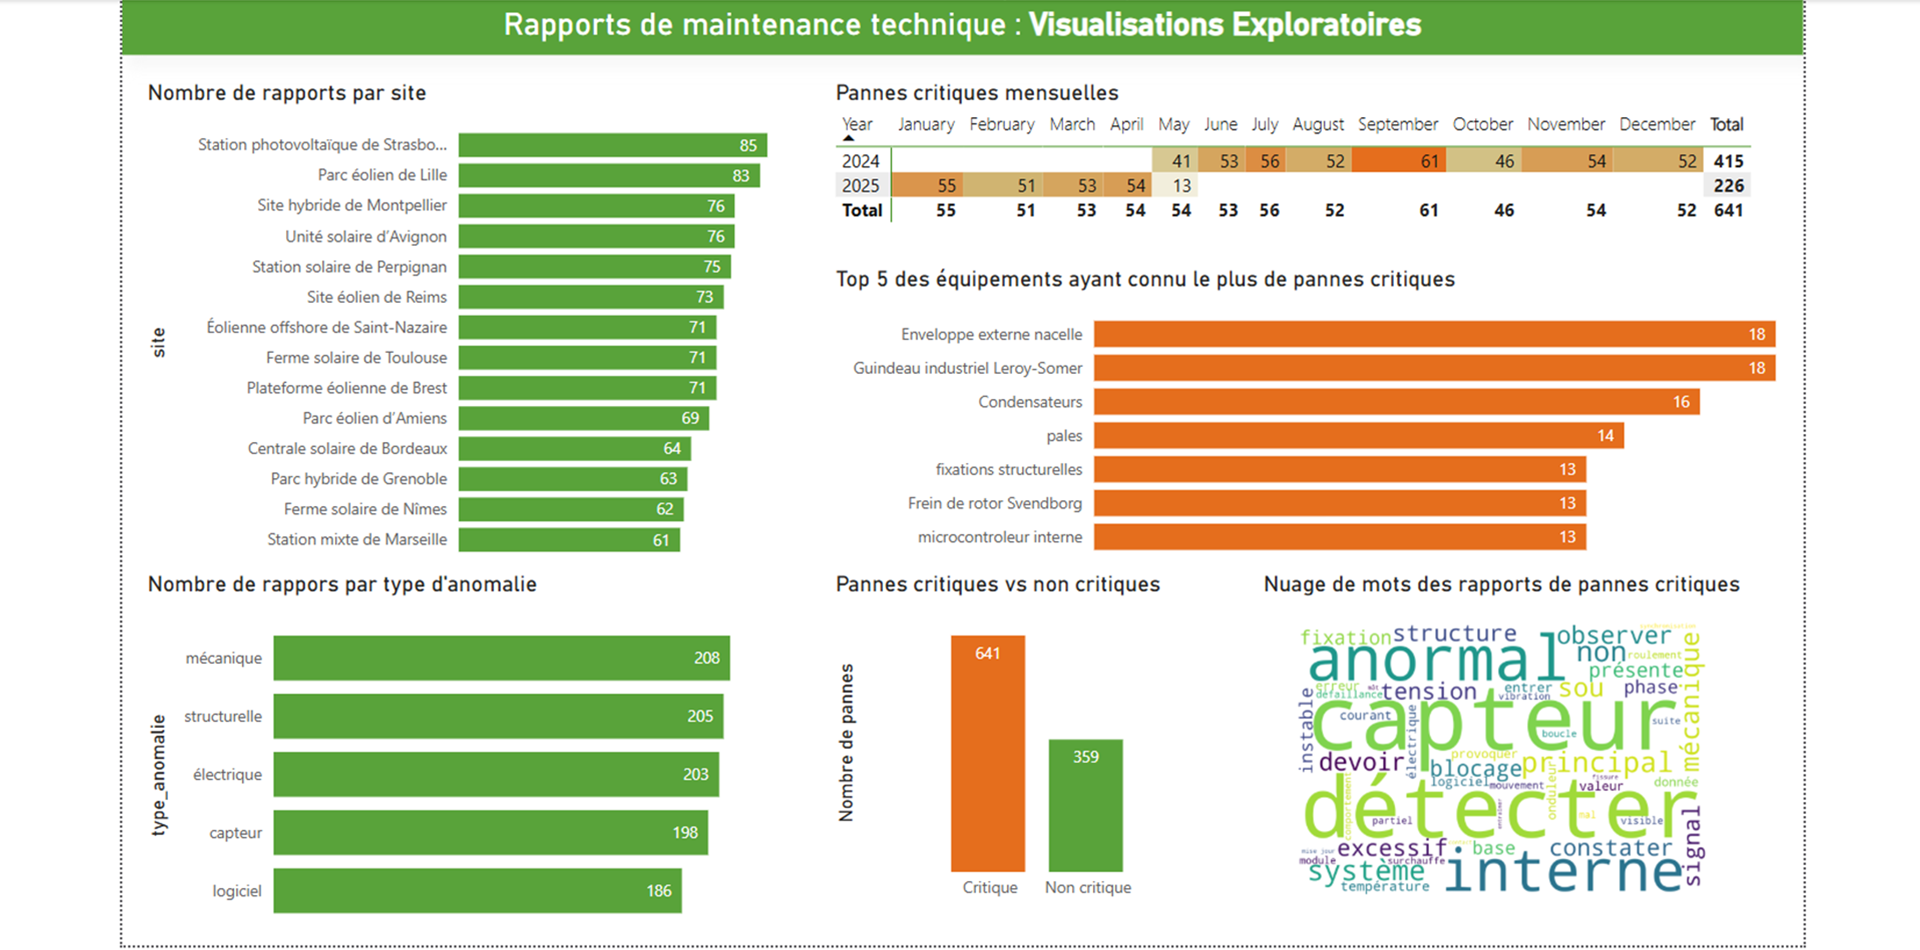

What the dashboard file says about the page in this screenshot:
{"tool":"powerbi","page":{"name":"Visualisations exploratoires","canvas":[1280,720],"ordinal":0},"visuals":[{"type":"pythonVisual","title":"Nuage de mots des rapports de pannes critiques","fields":{"Values":["powerbi_dataset_predictions.rapport_clean","powerbi_dataset_predictions.panne_critique"]},"box":[837.3,434.5,427.3,273.6],"z":0},{"type":"columnChart","title":"Pannes critiques vs non critiques","fields":{"Category":["powerbi_dataset_predictions.panne_critique_label"],"Y":["CountNonNull(powerbi_dataset_predictions.panne_critique_label)"]},"box":[538.2,434.5,299.1,272.7],"z":1000},{"type":"barChart","title":"Top 5 des équipements ayant connu le plus de pannes critiques","fields":{"Y":["CountNonNull(powerbi_dataset_predictions.equipement)"],"Category":["powerbi_dataset_predictions.equipement"]},"box":[538.2,201.8,726.4,232.7],"z":2000},{"type":"barChart","title":"Nombre de rapports par site","fields":{"Category":["powerbi_dataset_predictions.site"],"Y":["CountNonNull(powerbi_dataset_predictions.rapport)"]},"box":[14.5,60,523.6,374.5],"z":3000},{"type":"barChart","title":"Nombre de rappors par type d''anomalie","fields":{"Category":["powerbi_dataset_predictions.type_anomalie"],"Y":["CountNonNull(powerbi_dataset_predictions.rapport)"]},"box":[14.5,434.5,523.6,285.5],"z":4000},{"type":"pivotTable","title":"Pannes critiques mensuelles","fields":{"Rows":["powerbi_dataset_predictions.Year"],"Columns":["powerbi_dataset_predictions.Month"],"Values":["CountNonNull(powerbi_dataset_predictions.panne_critique)"]},"box":[538.2,60,726.4,128.2],"z":5000},{"type":"textbox","box":[0,0,1280,41.8],"z":6000}]}

Visuals, with their boxes on the page's 1280x720 design canvas (x1, y1, x2, y2). These are canvas units, not pixel positions in the 1920x950 screenshot, which may show the page scaled, cropped or inside an application window:
"Nuage de mots des rapports de pannes critiques" pythonVisual: [837, 434, 1265, 708]
"Pannes critiques vs non critiques" columnChart: [538, 434, 837, 707]
"Top 5 des équipements ayant connu le plus de pannes critiques" barChart: [538, 202, 1265, 434]
"Nombre de rapports par site" barChart: [14, 60, 538, 434]
"Nombre de rappors par type d''anomalie" barChart: [14, 434, 538, 720]
"Pannes critiques mensuelles" pivotTable: [538, 60, 1265, 188]
textbox: [0, 0, 1280, 42]
